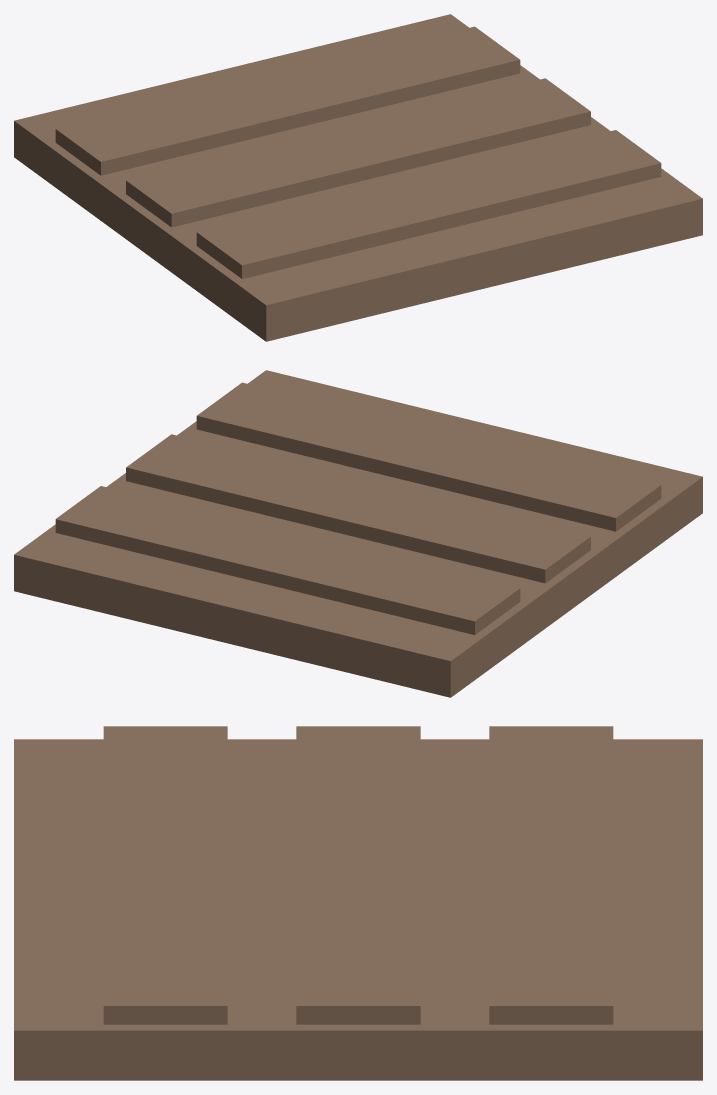
The model's file is soil_watered.glb.
3 views of the same model, one above another, from view 1: azimuth 30°, elevation 25°; view 2: azimuth 150°, elevation 25°; view 3: azimuth 270°, elevation 25° (orthographic). The views are drawn at different scales.
Parts seen in each view (by area): view 1: SoilWatered; view 2: SoilWatered; view 3: SoilWatered.
Boxes of the visible parts, x1,y1,x2,y2 form: SoilWatered: (14,14,702,341); SoilWatered: (14,370,702,697); SoilWatered: (14,726,702,1080).
Bounding box in the file's own units: 1 × 0.11 × 1.
